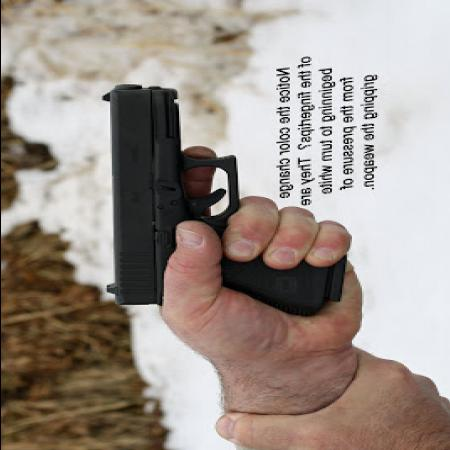Pistol: (97, 81, 341, 314)
